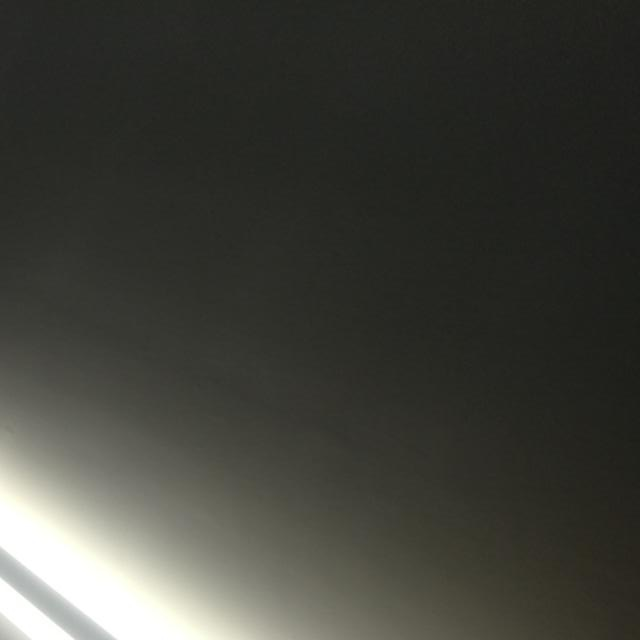fluorescent tube: (0, 417, 541, 640)
